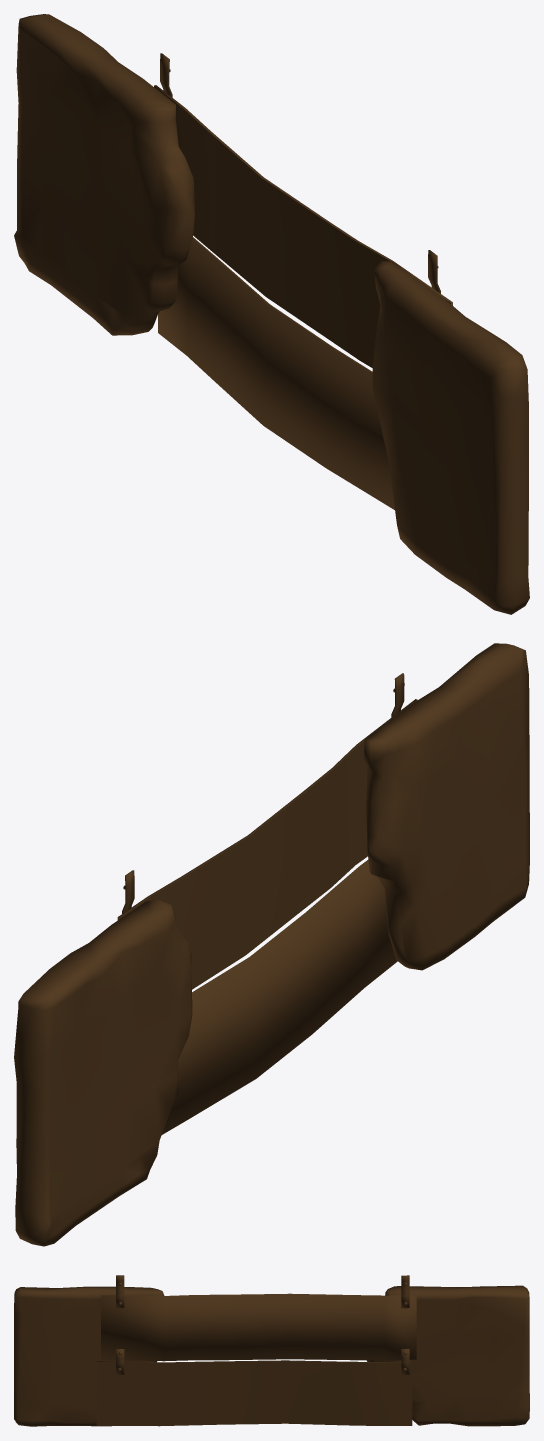
The model's file is Fence_Concrete_slab_d.FBX.
3 renders of one model, top to bottom at view 1: azimuth 30°, elevation 25°; view 2: azimuth 150°, elevation 25°; view 3: azimuth 270°, elevation 25°, orthographic. The views are drawn at different scales.
Visible parts, largest first — view 1: Fence_Concrete_slab_d_LOD0; view 2: Fence_Concrete_slab_d_LOD0; view 3: Fence_Concrete_slab_d_LOD0.
Part boxes in pixels (bbox=[...]): Fence_Concrete_slab_d_LOD0: bbox=[14, 14, 529, 614]; Fence_Concrete_slab_d_LOD0: bbox=[14, 643, 529, 1246]; Fence_Concrete_slab_d_LOD0: bbox=[14, 1275, 529, 1426].
Size of what is drawn, in the model's own units: 14.87 by 91 by 280.
